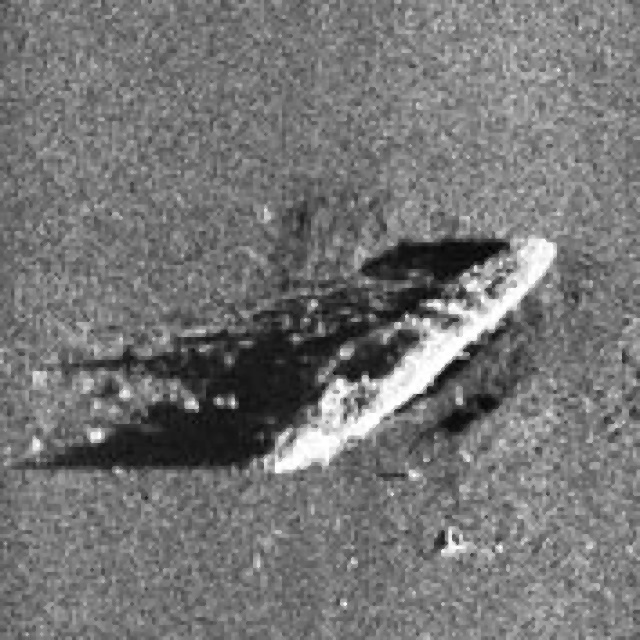Ship: (229, 207, 568, 507)
